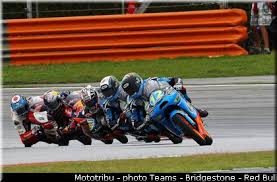helmet: (94, 76, 119, 100), (7, 94, 31, 116), (121, 72, 143, 95), (41, 90, 64, 110), (78, 85, 95, 107)
